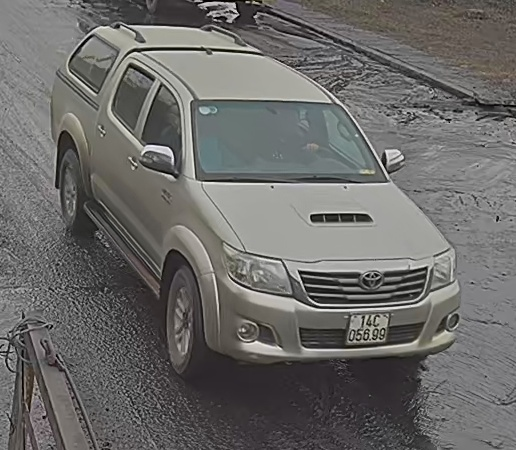vehicle plate: (346, 307, 393, 347)
